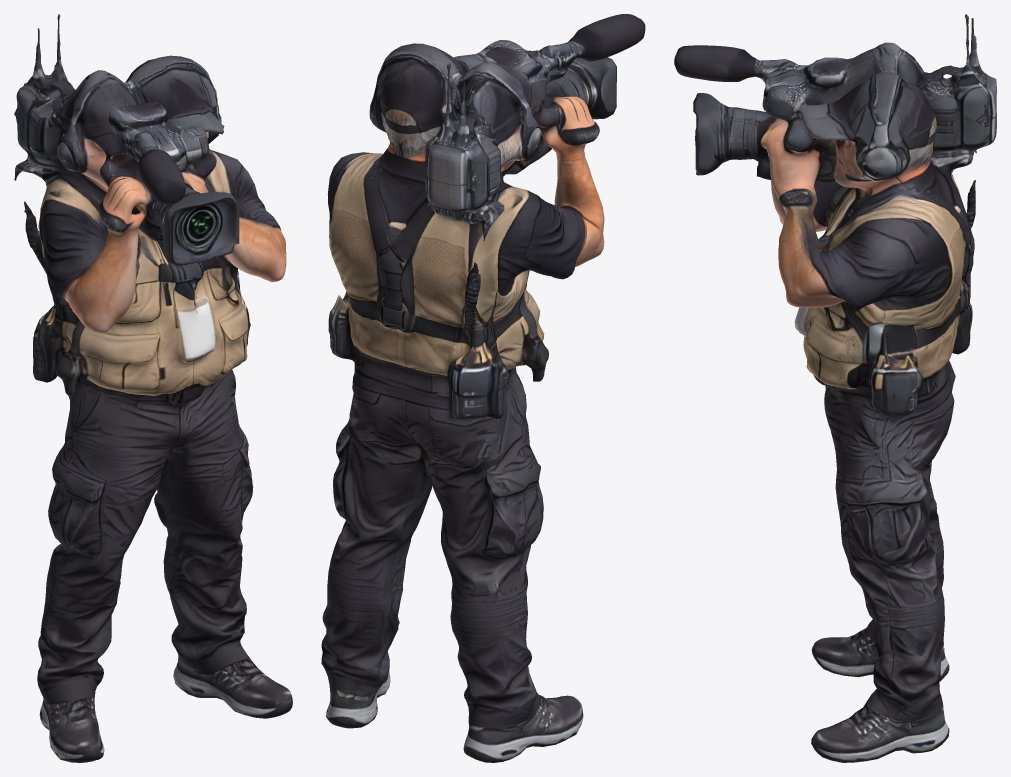
File: standing-cameraman.glb
3 renders of one model, left to right at view 1: azimuth 30°, elevation 25°; view 2: azimuth 150°, elevation 25°; view 3: azimuth 270°, elevation 25°, orthographic. The views are drawn at different scales.
Parts seen in each view (by area): view 1: model; view 2: model; view 3: model.
Boxes of the visible parts, bbox=[...] form: model: bbox=[14, 14, 292, 762]; model: bbox=[321, 14, 645, 762]; model: bbox=[674, 14, 996, 762].
Bounding box in the file's own units: 0.6631 × 1.9 × 0.8222.
1 material, 1 textured.
